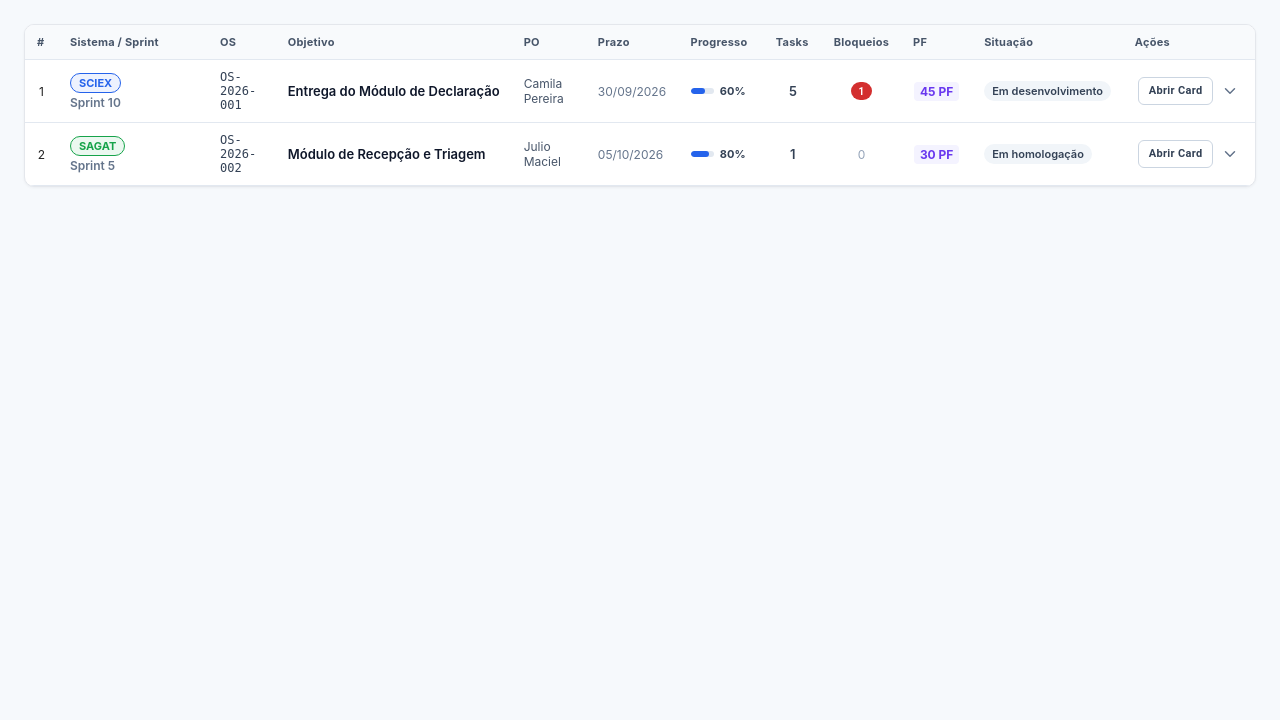
Test: SprintListView - Modo Lista Refatorado › 3. Clicar novamente na mesma linha recolhe o Kanban inline
Click the text "Entrega do Módulo de Declaração". click: (640, 91)
box: [25,60,1255,122]
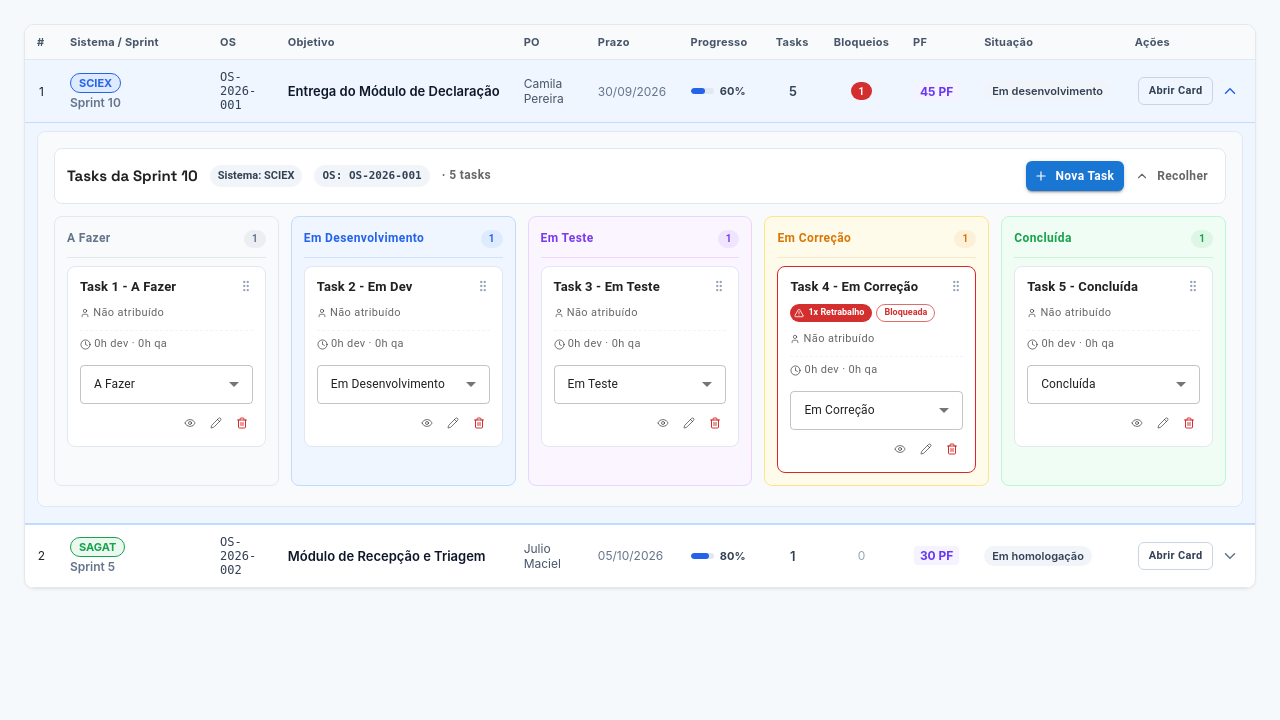
Now the heading "Tasks da Sprint 10" is shown, box [67,167,198,185]
Click the text "Entrega do Módulo de Declaração". click: (640, 91)
box: [25,60,1255,122]
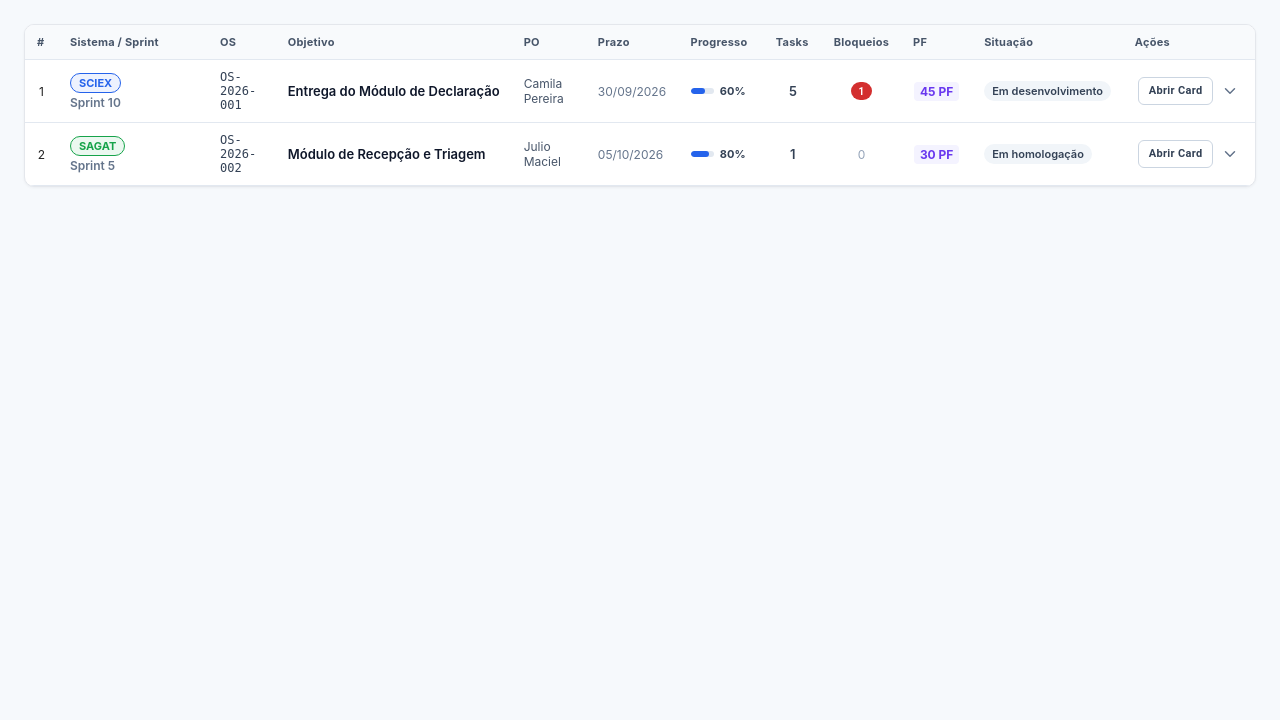
Now the heading "Tasks da Sprint 10" is gone
